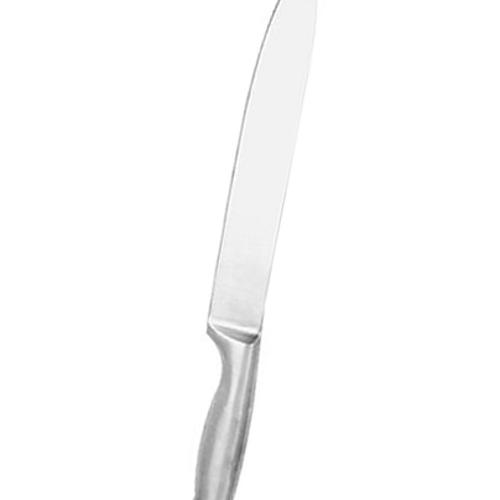knife: (193, 1, 320, 500)
